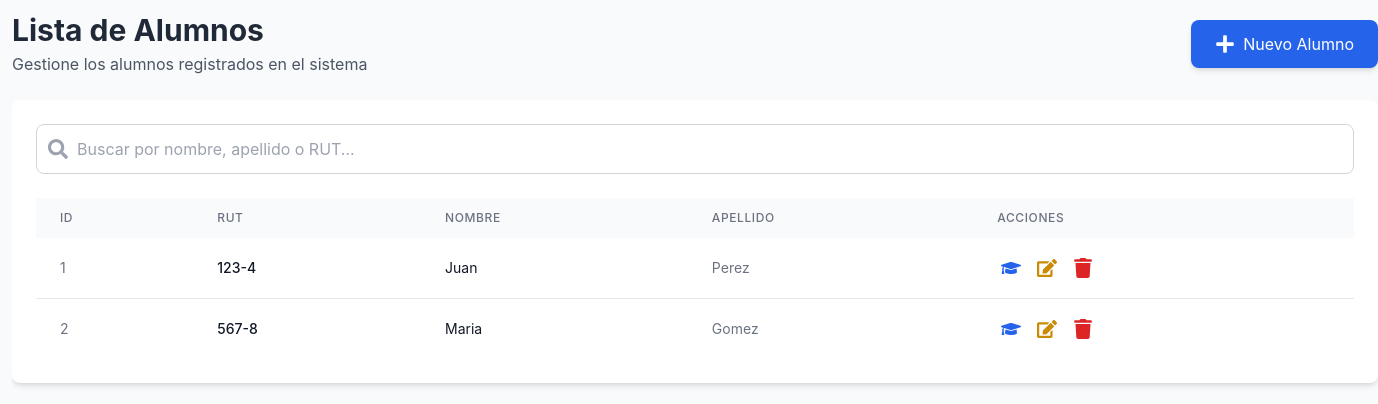
Test: AlumnoList › debe eliminar un alumno cuando se hace click en eliminar y se confirma
The image size is (1378, 404).
Expected: the text "Juan" is shown, [421,238,688,298]
What coordinates should you click on to do the following:
click the button titled "Eliminar" in the row of "123-4"
I would click on:
 (1083, 268)
Its box is [1069,254,1097,282].
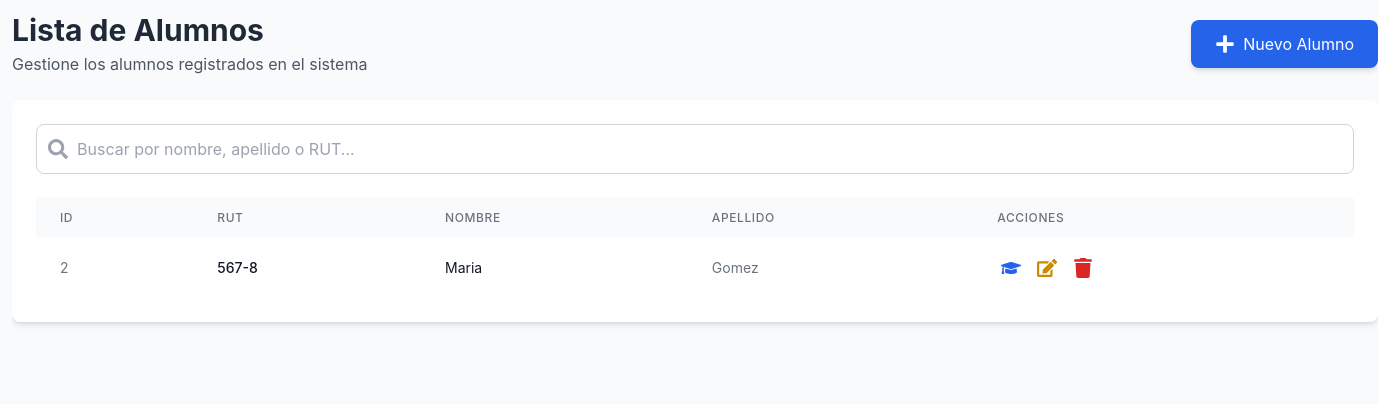
Result: the text "Juan" is gone
